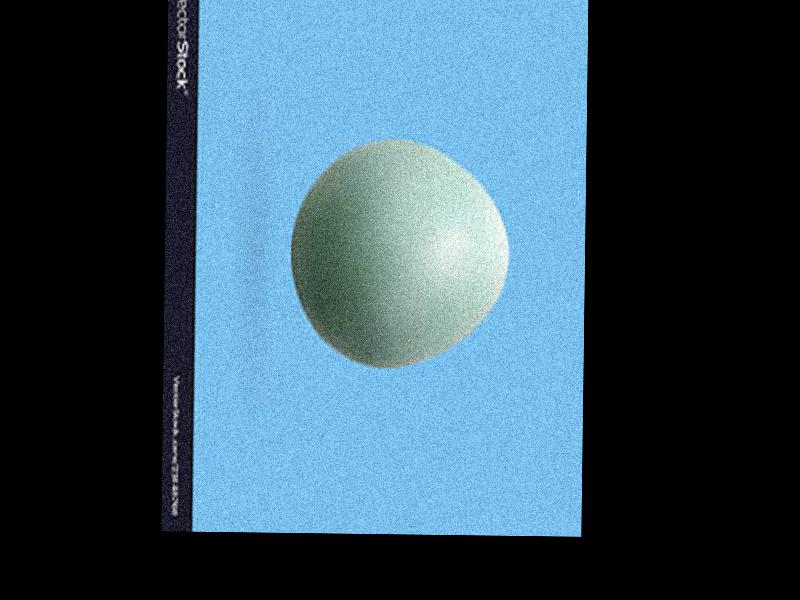Eggs: (291, 139, 510, 372)
